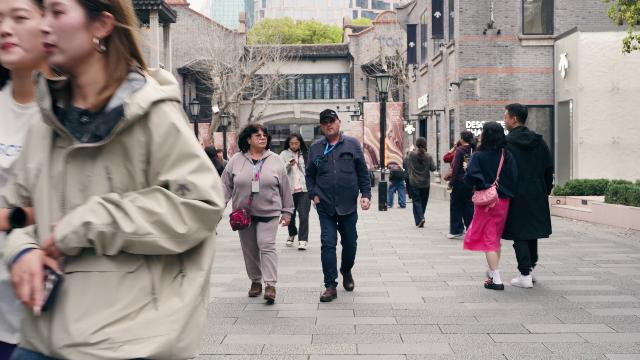person: (0, 0, 226, 360), (0, 0, 58, 360), (220, 122, 295, 304), (305, 109, 372, 303), (501, 103, 555, 289), (462, 121, 519, 291), (279, 132, 312, 251), (403, 137, 437, 228)
